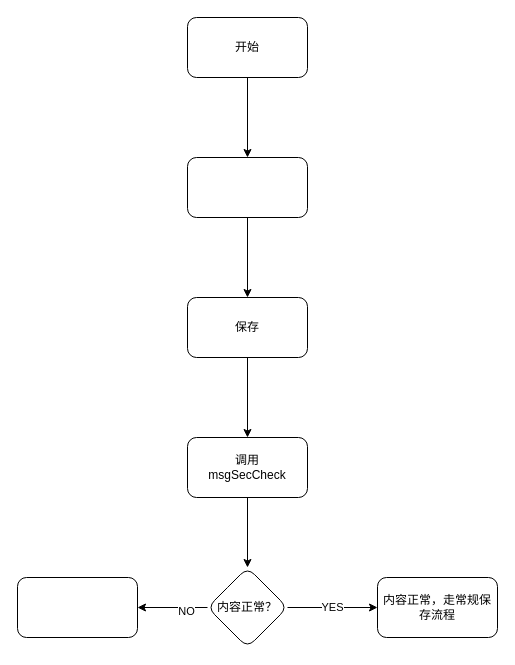
Image size: 515x665. Some labels were removed from this diagram. Each missing label, with the box of its shape:
提示：内容含有违法违规内容，请修改后再保存: (16, 576, 138, 638)
输入文本内容: (186, 156, 308, 218)
